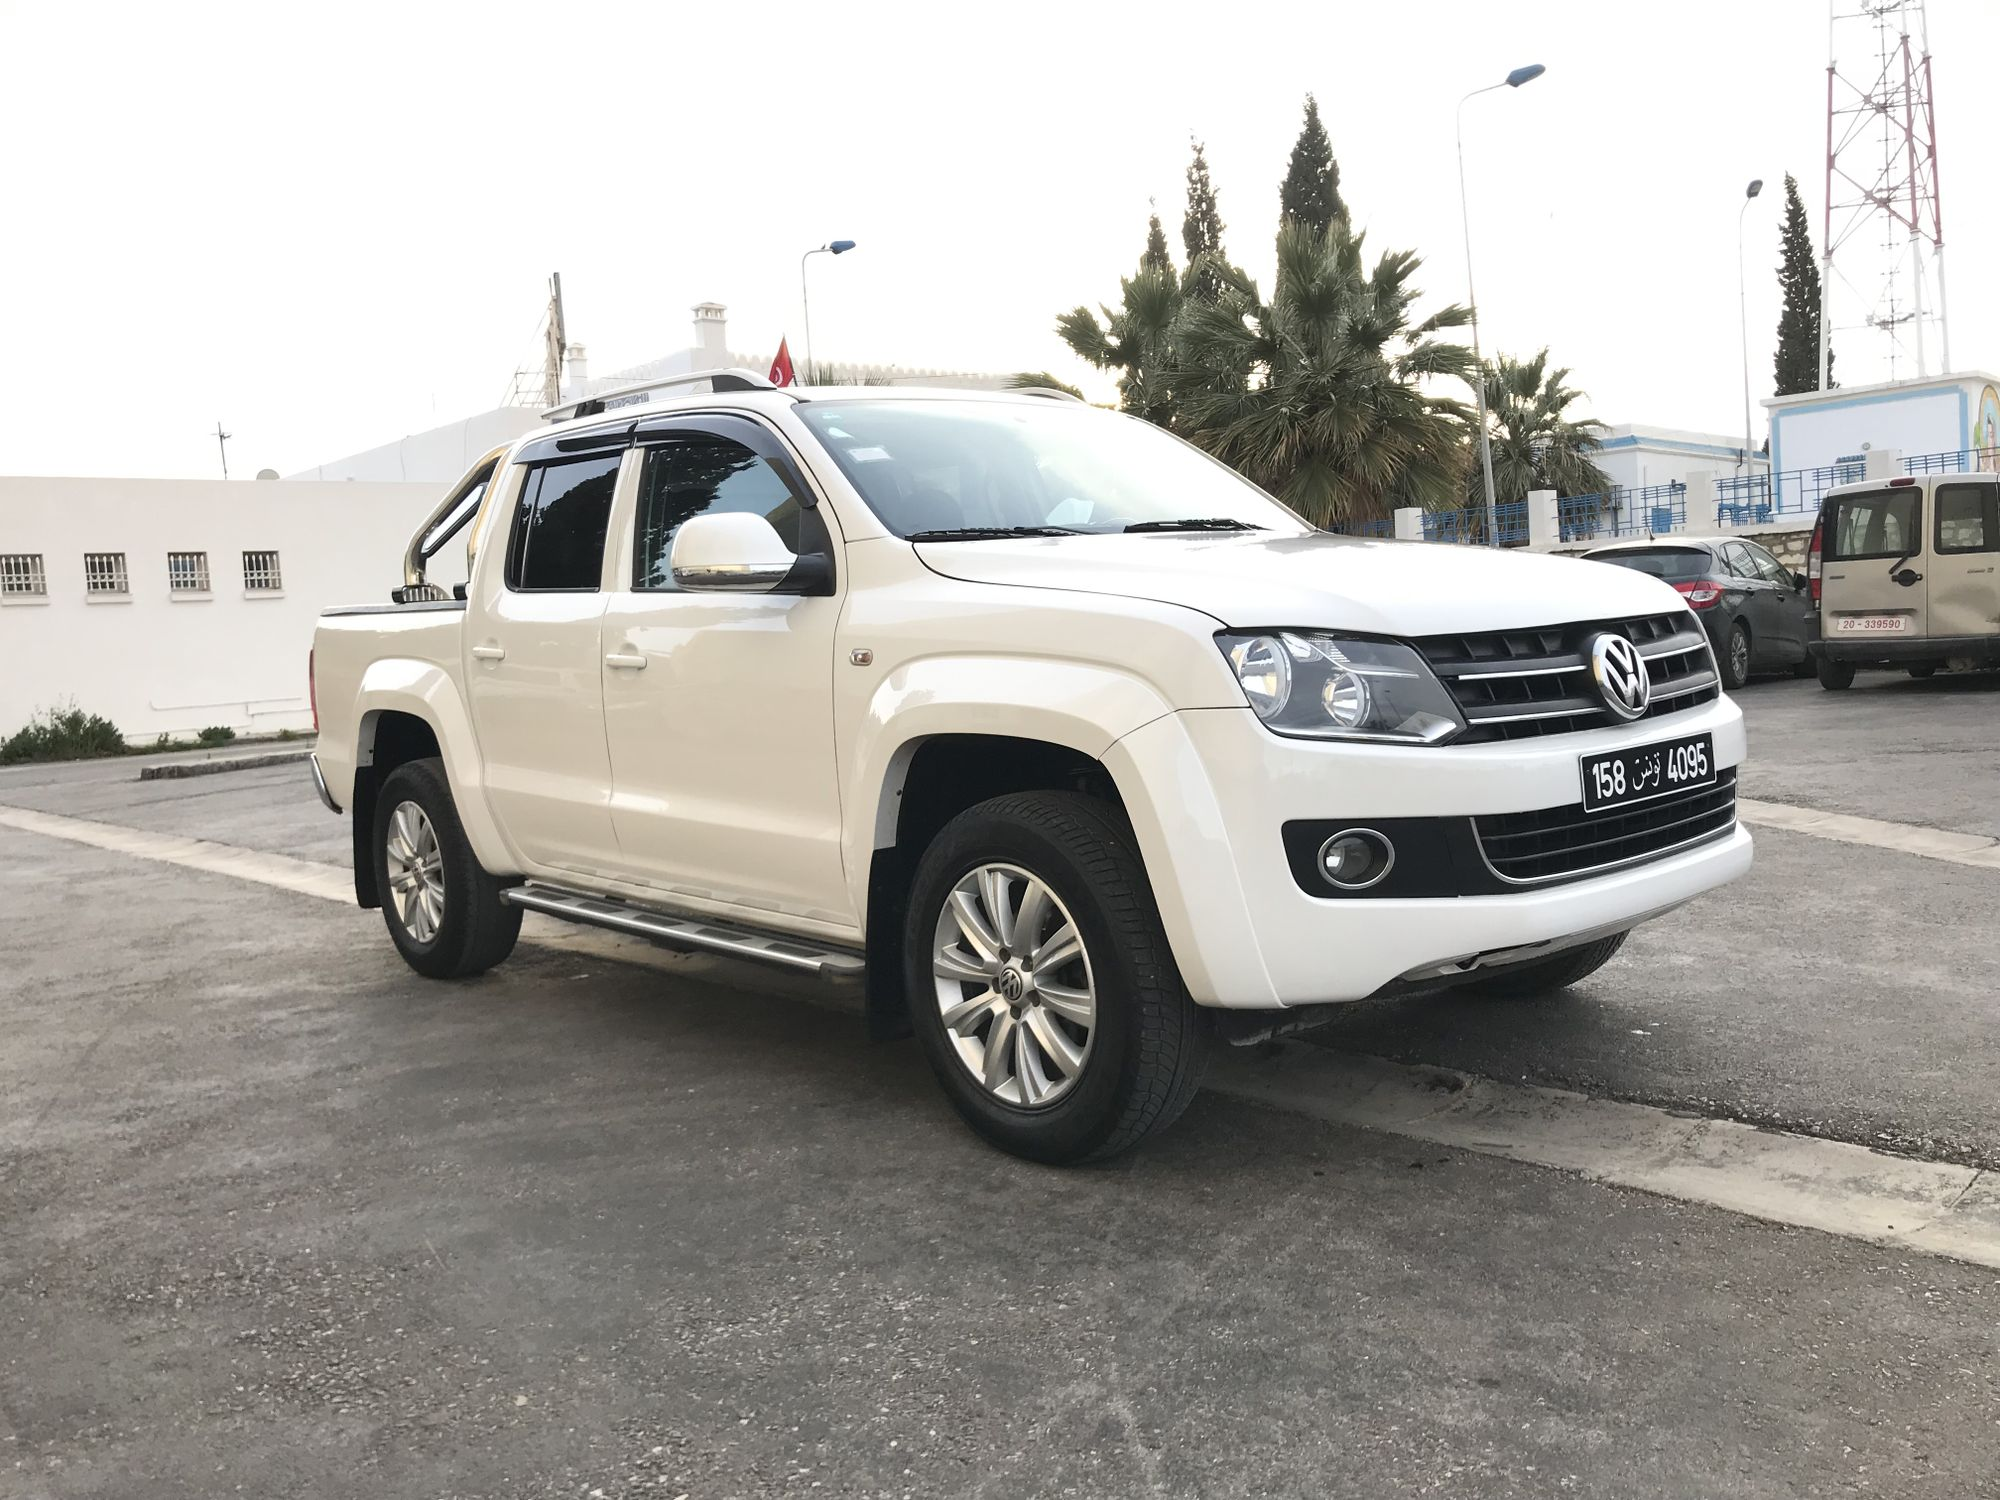LP: (1580, 734, 1722, 805)
